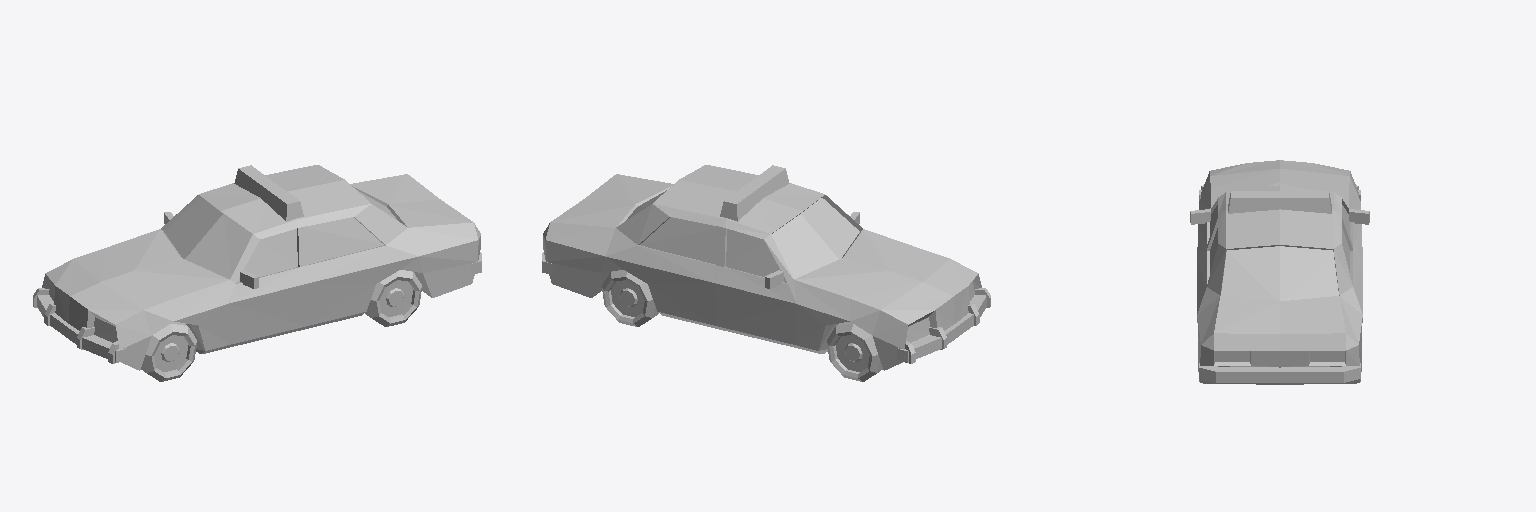
Rendered from policecar.obj.
3 renders of one model, left to right at view 1: azimuth 30°, elevation 25°; view 2: azimuth 150°, elevation 25°; view 3: azimuth 270°, elevation 25°, orthographic.
Parts seen in each view (by area): view 1: Policecar Model, WheelP-4, WheelP-3; view 2: Policecar Model, WheelP-1, WheelP-2; view 3: Policecar Model.
Part boxes in pixels (left/top/right/bottom): Policecar Model: left=33, top=165, right=481, bottom=370; WheelP-4: left=141, top=322, right=197, bottom=381; WheelP-3: left=365, top=270, right=421, bottom=326; Policecar Model: left=542, top=165, right=990, bottom=370; WheelP-1: left=826, top=322, right=882, bottom=381; WheelP-2: left=602, top=270, right=658, bottom=326; Policecar Model: left=1190, top=160, right=1369, bottom=384.
Size of the model in its own units: 4.83 by 1.62 by 1.95.